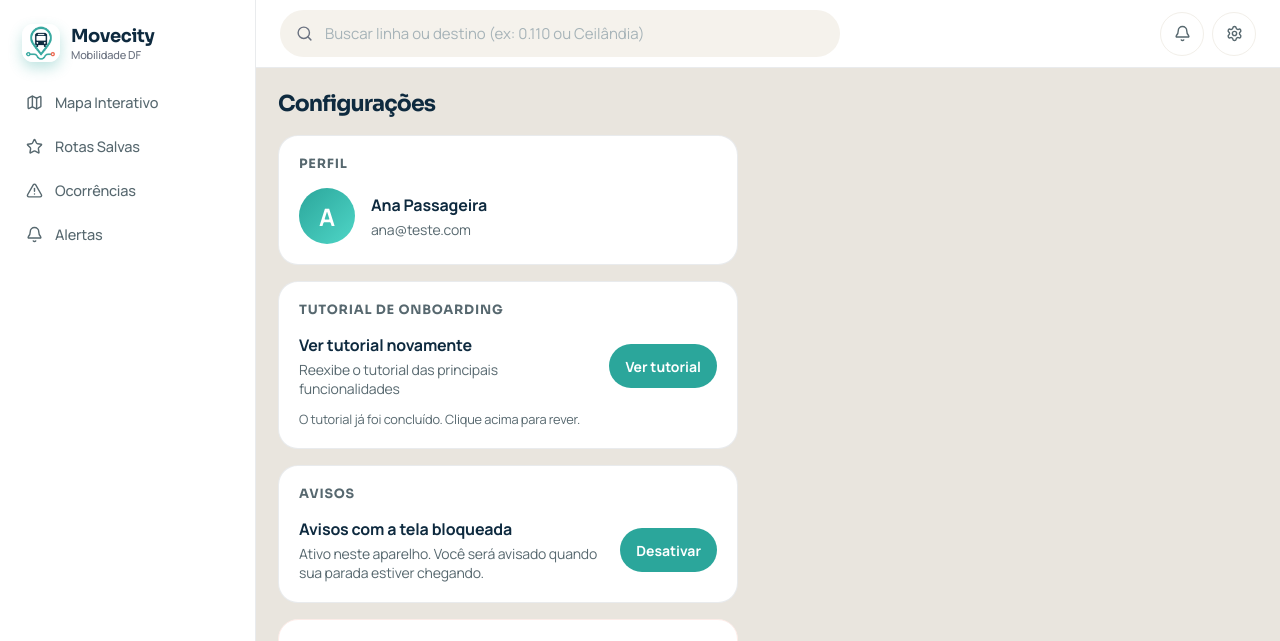
desativar › falha ao desativar mostra o erro e mantém Ativo
The image size is (1280, 641).
Check: the heading "Avisos com a tela bloqueada" is shown, box [299, 518, 512, 540]
Click the button "Desativar".
click(669, 550)  # box [620, 528, 717, 572]
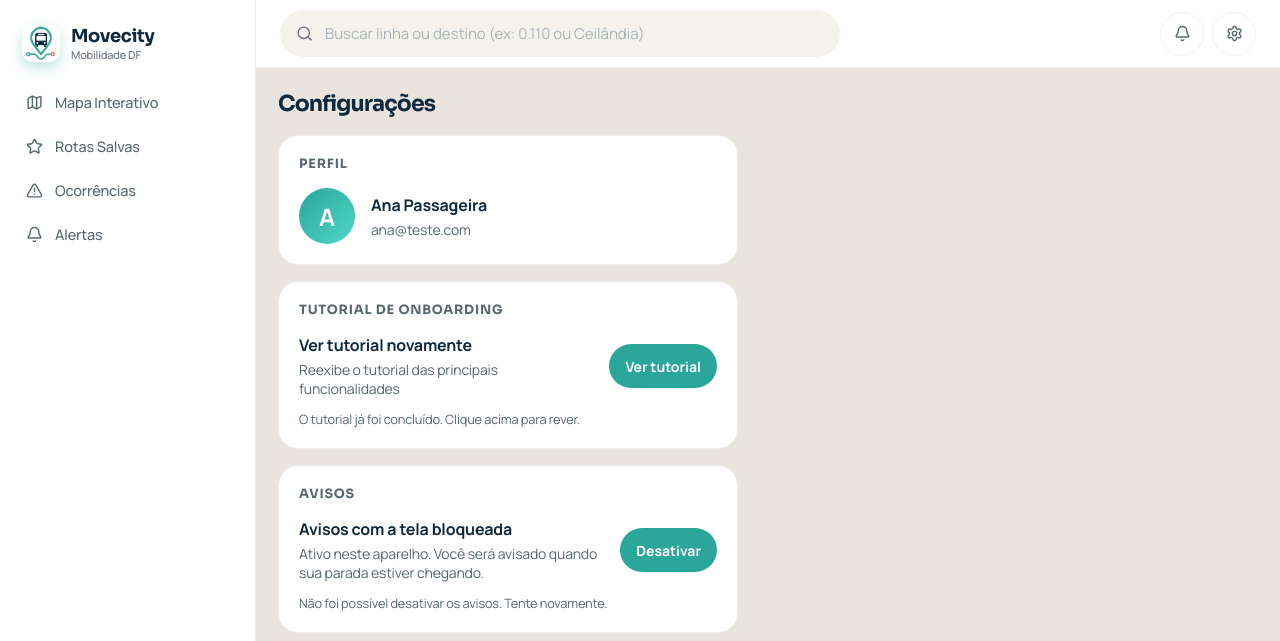
Check: the text "Ativo neste aparelho" is shown, box [299, 544, 597, 582]
Check: the message shows "Não foi possível desativar", box [299, 594, 607, 612]
